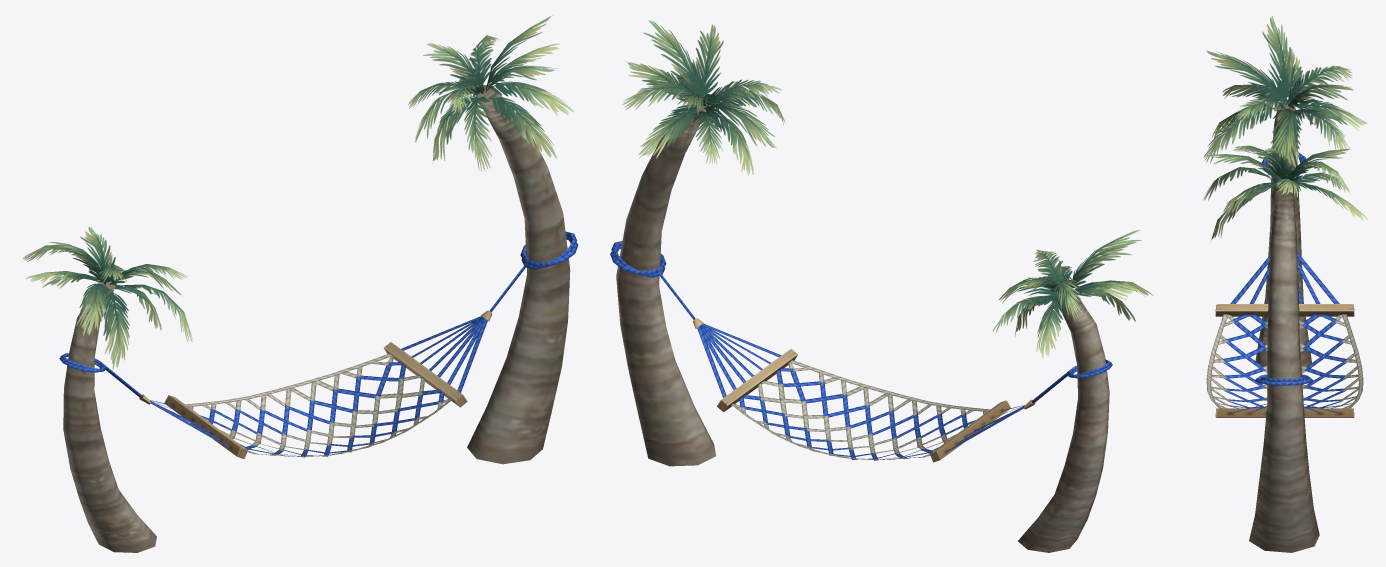
Rendered from furn_se2021_hammock_001.gltf.
The picture shows the model from 3 angles, left to right: view 1: azimuth 30°, elevation 25°; view 2: azimuth 150°, elevation 25°; view 3: azimuth 270°, elevation 25°; orthographic projection. The views are drawn at different scales.
Parts seen in each view (by area): view 1: se2021_hammock_001; view 2: se2021_hammock_001; view 3: se2021_hammock_001.
Boxes of the visible parts, x1,y1,x2,y2 form: se2021_hammock_001: (22,15,578,552); se2021_hammock_001: (610,20,1153,552); se2021_hammock_001: (1203,16,1367,552).
Bounding box in the file's own units: 2.79 × 2.09 × 0.8448.
Materials: 2 (2 with a texture image).
